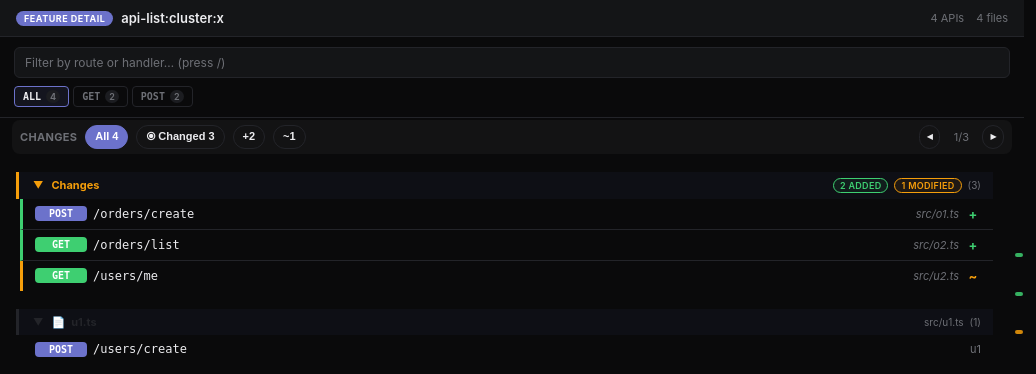
Scenario: composes with method tabs (Changed AND POST) › shows only rows that are BOTH changed AND POST
The image size is (1036, 374).
What coordinates should you click on to do the following:
click the button "POST 2"
I would click on:
 (162, 96)
Its box is [132,86,192,107].
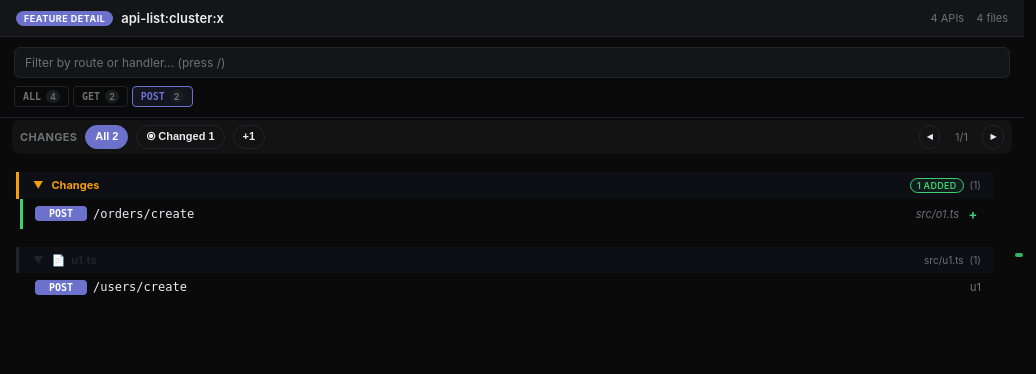
expect the button "⦿ Changed 1" is shown: met
What coordinates should you click on to do the following:
click the button "⦿ Changed 1"
I would click on:
 (180, 137)
Its box is [136,125,224,149].
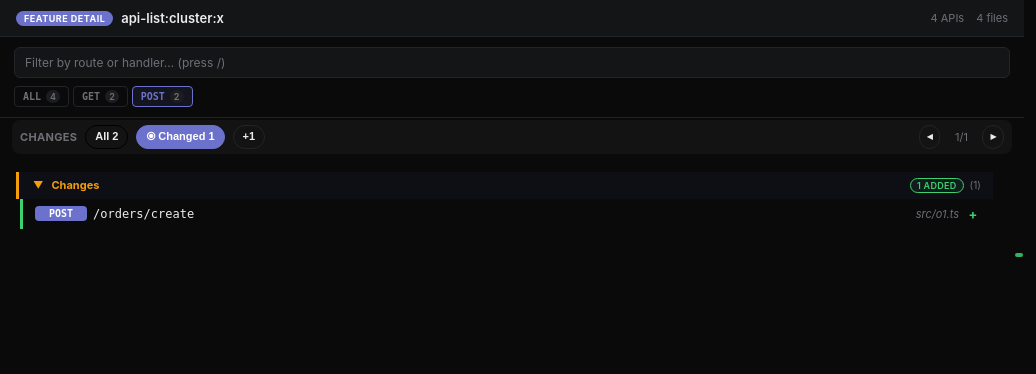
expect the text "/orders/create" is shown: met, box [93,207,194,221]
expect the button "/users/create" is gone: met
